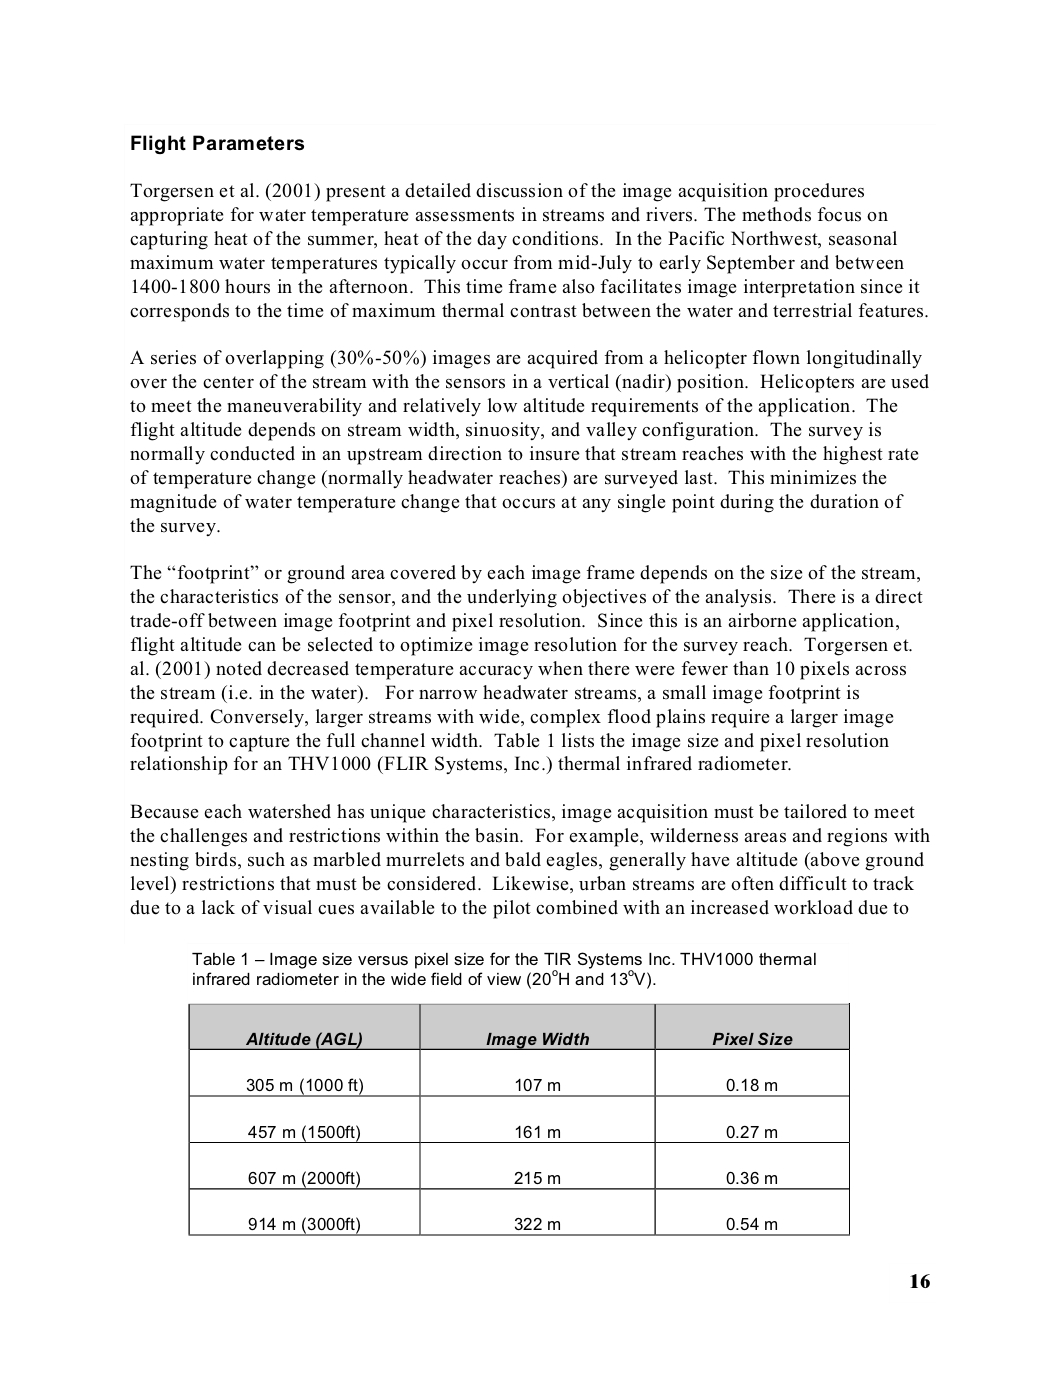Table: (188, 1003, 849, 1235)
